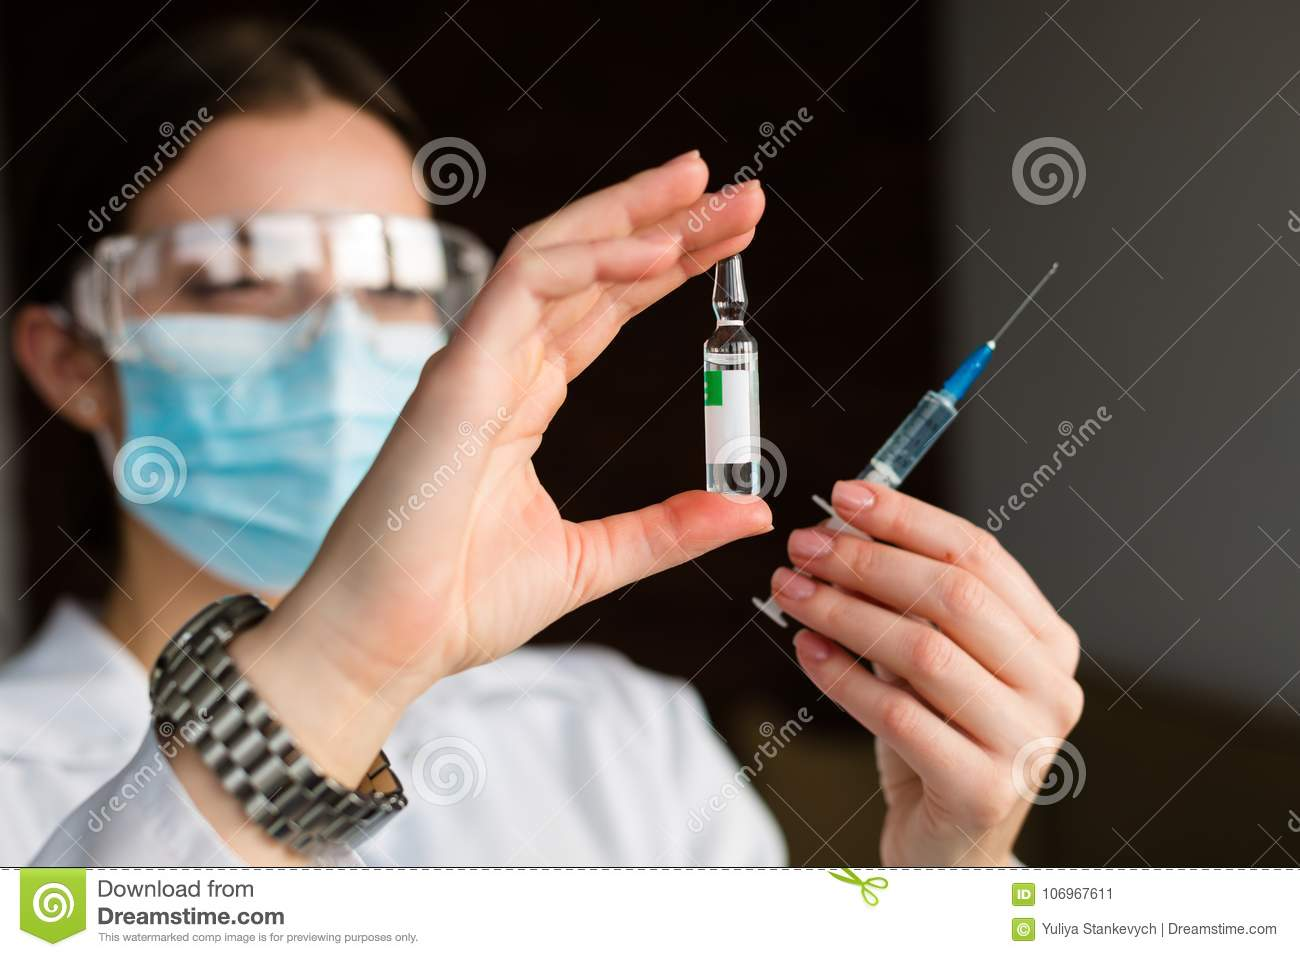mask: (104, 311, 445, 582)
